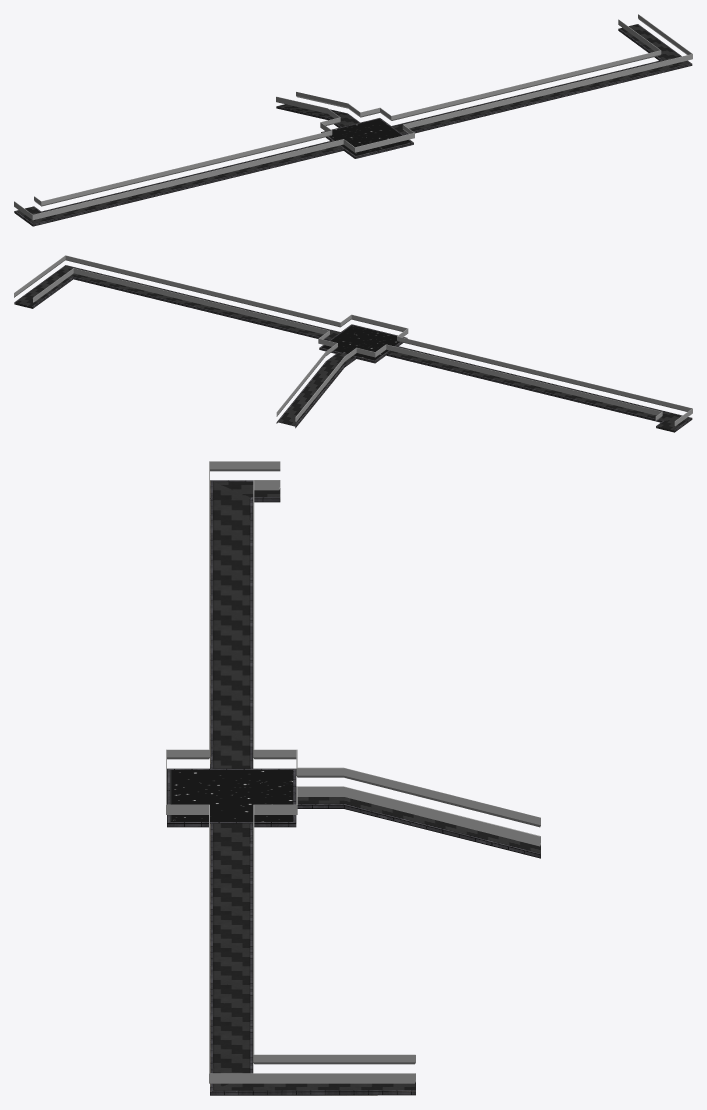
The model's file is Exhibit_Str_Bridge_1_Art.fbx.
3 renders of one model, top to bottom at view 1: azimuth 30°, elevation 25°; view 2: azimuth 150°, elevation 25°; view 3: azimuth 270°, elevation 25°, orthographic. The views are drawn at different scales.
Parts seen in each view (by area): view 1: Exhibit_Str_Bridge_Railing_1, Exhibit_Str_Bridge_1; view 2: Exhibit_Str_Bridge_1, Exhibit_Str_Bridge_Railing_1; view 3: Exhibit_Str_Bridge_1, Exhibit_Str_Bridge_Railing_1.
Part boxes in pixels (x1,y1,x2,y2): Exhibit_Str_Bridge_Railing_1: (14, 14, 692, 220); Exhibit_Str_Bridge_1: (14, 24, 692, 226); Exhibit_Str_Bridge_1: (14, 265, 692, 432); Exhibit_Str_Bridge_Railing_1: (14, 255, 692, 426); Exhibit_Str_Bridge_1: (167, 480, 540, 1095); Exhibit_Str_Bridge_Railing_1: (166, 461, 540, 1083).
Size of what is drawn, in the model's own units: 6715 by 369 by 1739.
3 materials, 2 textured.
